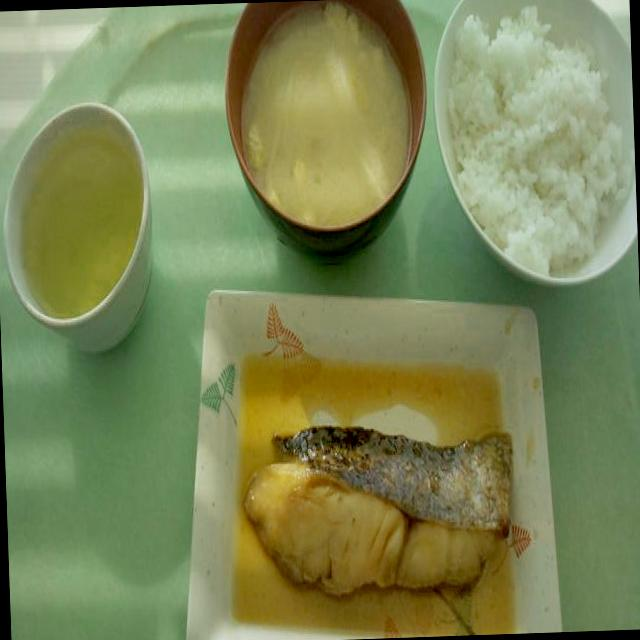Rice: (444, 0, 628, 274)
